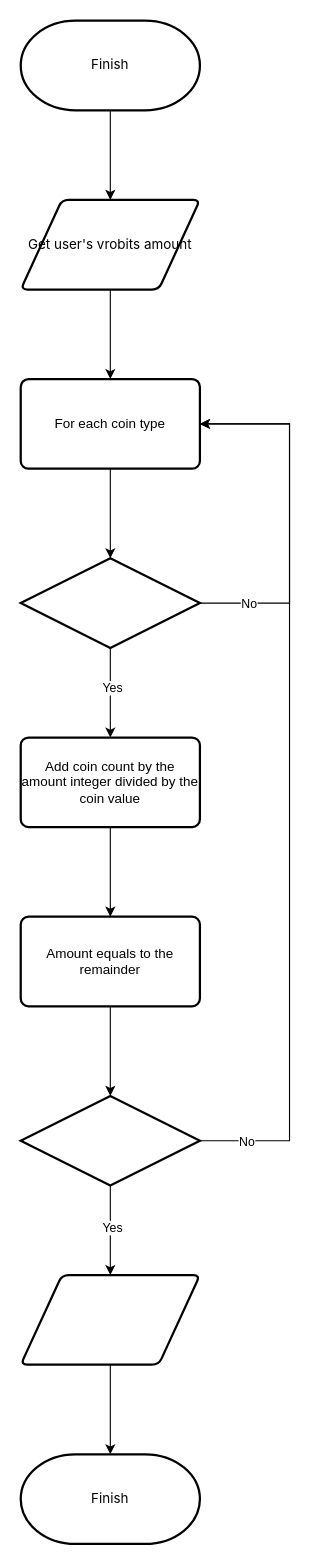
Some shapes in this 318 by 1564 pixel diagram are drawn without their labels. The shapes that lost their labels are listed below. From the top down, each one's box as (x1, y1, x2, y2) in pixels, then its label:
(19, 557, 200, 648): Is the user's amount greater than or equal to the current coin value
(19, 1094, 200, 1186): Is all coin type looped?
(19, 1273, 200, 1365): Print all used coin count
